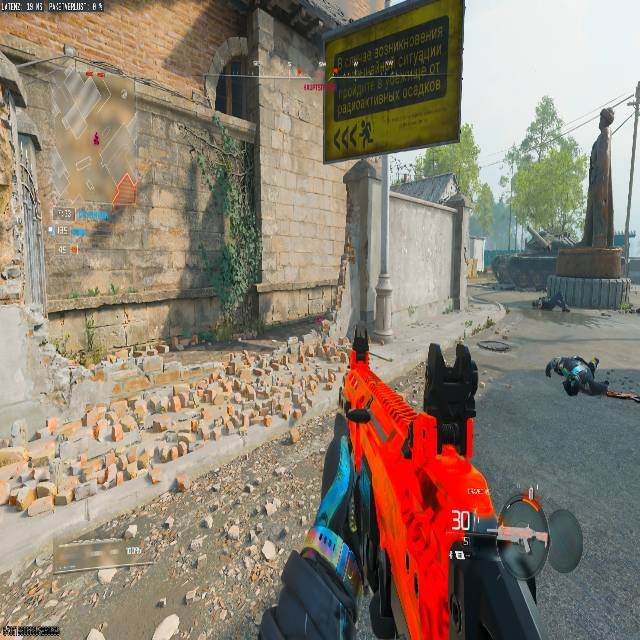head: (562, 376, 580, 396), (544, 358, 561, 378)
player: (542, 352, 599, 398)
